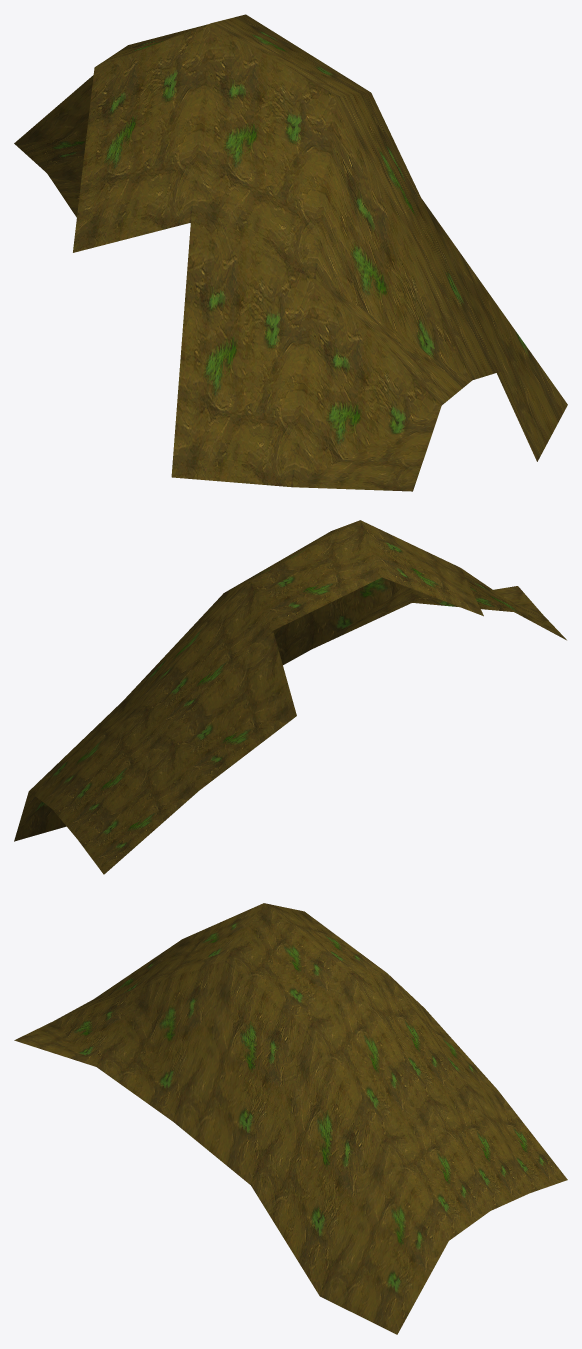
File: MIRKWOOD_AREA4_BARRIERD.fbx
3 views of the same model, one above another, from view 1: azimuth 30°, elevation 25°; view 2: azimuth 150°, elevation 25°; view 3: azimuth 270°, elevation 25° (orthographic). The views are drawn at different scales.
Visible parts, largest first — view 1: MIRKWOOD_AREA4_BARRIERD; view 2: MIRKWOOD_AREA4_BARRIERD; view 3: MIRKWOOD_AREA4_BARRIERD.
Boxes of the visible parts, x1=… form: MIRKWOOD_AREA4_BARRIERD: x1=14, y1=14, x2=567, y2=491; MIRKWOOD_AREA4_BARRIERD: x1=14, y1=520, x2=566, y2=874; MIRKWOOD_AREA4_BARRIERD: x1=14, y1=903, x2=567, y2=1334.
Size of the model in its own units: 199492 by 164362 by 267283.
Materials: 1 (1 with a texture image).
